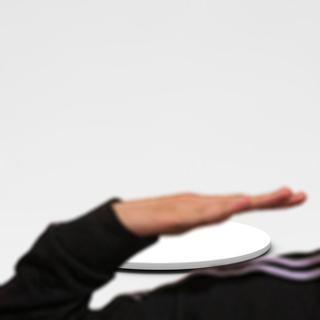Wait: (117, 168, 309, 246)
